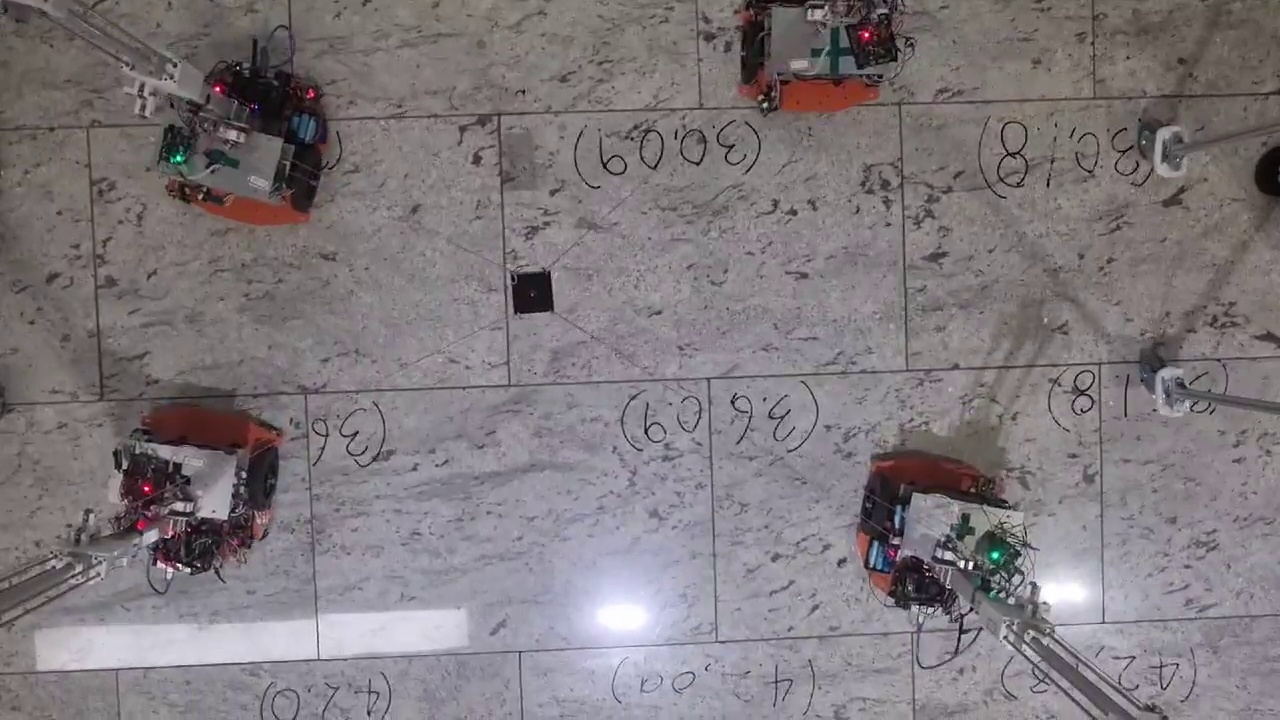e0: (511, 271, 554, 314)
r1: (858, 473, 1010, 568)
r2: (739, 19, 892, 79)
r3: (168, 130, 322, 213)
r4: (125, 427, 280, 507)
y_+_axis_vector: (708, 365, 1099, 377)
y_-_axis_vector: (305, 378, 709, 394)
